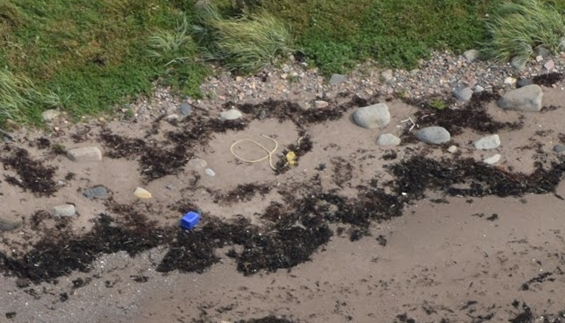tube: (228, 132, 284, 171)
white_in_green: (163, 199, 218, 241), (273, 140, 313, 176)
